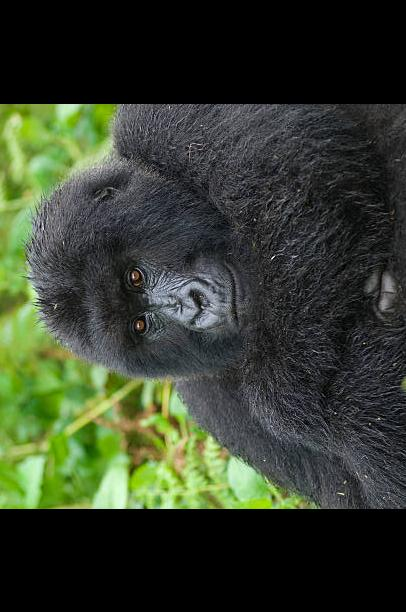goriile_montagne: (8, 103, 406, 506)
